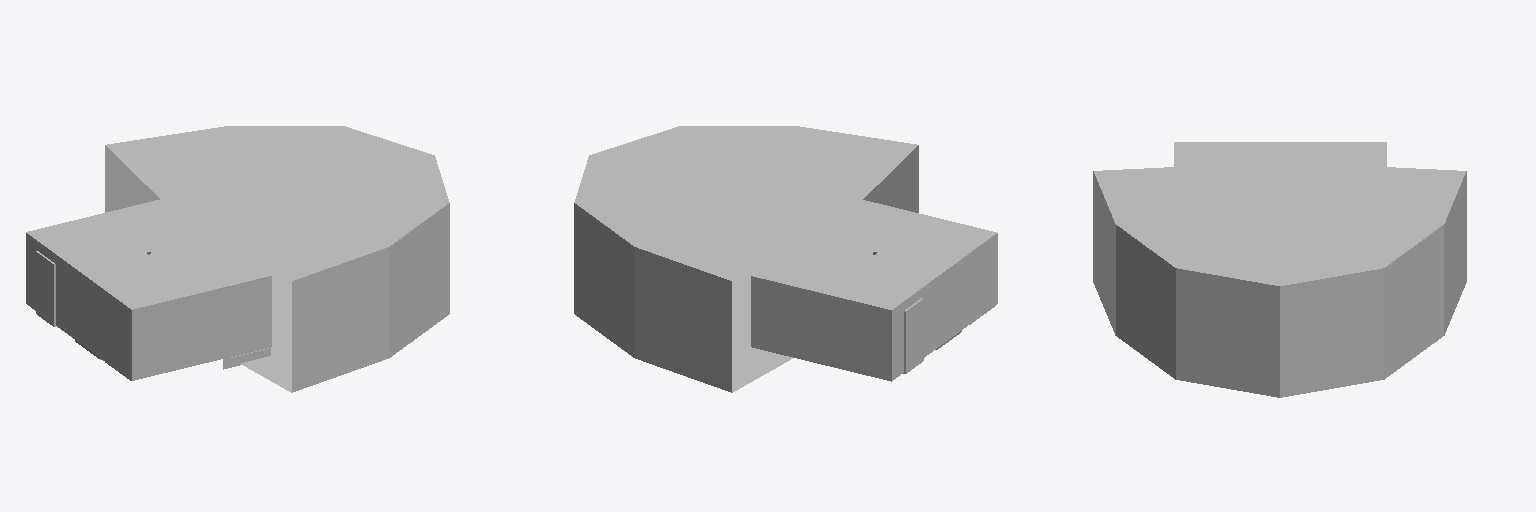
File: room.obj
The picture shows the model from 3 angles: view 1: azimuth 30°, elevation 25°; view 2: azimuth 150°, elevation 25°; view 3: azimuth 270°, elevation 25°; orthographic projection.
Visible parts, largest first — view 1: Outside_Background_Walls.002, Room_Walls, Door_Cube; view 2: Outside_Background_Walls.002, Room_Walls, Door_Cube; view 3: Outside_Background_Walls.002, Room_Walls.
Boxes of the visible parts, x1=… form: Outside_Background_Walls.002: x1=105, y1=126, x2=449, y2=392; Room_Walls: x1=26, y1=199, x2=271, y2=380; Door_Cube: x1=36, y1=251, x2=55, y2=326; Outside_Background_Walls.002: x1=574, y1=126, x2=918, y2=392; Room_Walls: x1=751, y1=200, x2=997, y2=381; Door_Cube: x1=903, y1=298, x2=923, y2=373; Outside_Background_Walls.002: x1=1093, y1=162, x2=1466, y2=397; Room_Walls: x1=1174, y1=142, x2=1386, y2=166.
Size of the model in its own units: 30.47 by 9.26 by 27.52.